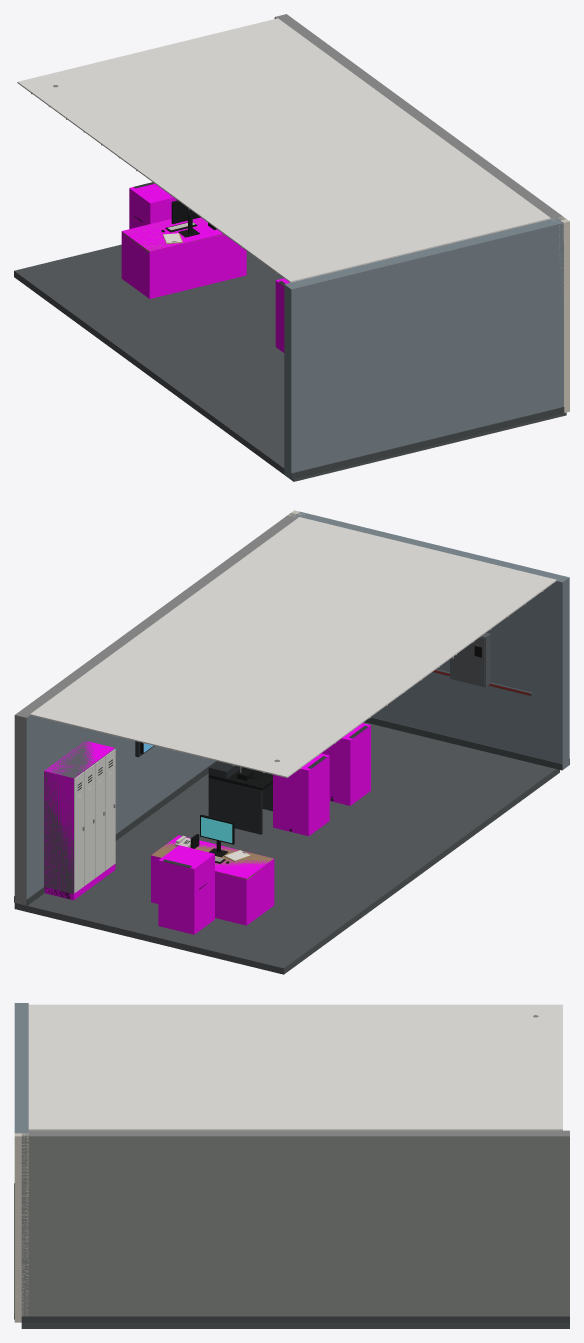
Rendered from ENV_SecurityControl.glb.
The picture shows the model from 3 angles, top to bottom: view 1: azimuth 30°, elevation 25°; view 2: azimuth 150°, elevation 25°; view 3: azimuth 270°, elevation 25°; orthographic projection. The views are drawn at different scales.
Parts seen in each view (by area): view 1: ENV_SecurityControl_Architecture, ENV_SecurityControl_Ceiling, PROP_Desk_Clinical_COL-colonly.003, PROP_Chair_Office_COL-colonly.012, ENV_SecurityControl_Posts, PROP_Terminal_EHR_Mesh.004, PROP_Chair_Office_COL-colonly.011; view 2: ENV_SecurityControl_Architecture, ENV_SecurityControl_Ceiling, PROP_Lockers_Staff_4_Mesh.001, PROP_Chair_Office_COL-colonly.012, PROP_Lockers_Staff_4_COL-colonly.001, PROP_Desk_Clinical_COL-colonly.003, PROP_Console_SecurityDesk_Mesh, PROP_Chair_Office_COL-colonly.011, PROP_Chair_Office_COL-colonly.010, PROP_Cabinet_Keys_Wall_Mesh, PROP_Desk_Clinical_Mesh.003, PROP_Terminal_EHR_Screen.004 (+1 smaller); view 3: ENV_SecurityControl_Architecture, ENV_SecurityControl_Ceiling, ENV_SecurityControl_Posts.
Boxes of the visible parts, x1,y1,x2,y2 form: ENV_SecurityControl_Architecture: (14, 14, 566, 481); ENV_SecurityControl_Ceiling: (17, 18, 550, 282); PROP_Desk_Clinical_COL-colonly.003: (121, 217, 246, 298); PROP_Chair_Office_COL-colonly.012: (129, 184, 177, 228); ENV_SecurityControl_Posts: (551, 216, 569, 412); PROP_Terminal_EHR_Mesh.004: (161, 200, 216, 237); PROP_Chair_Office_COL-colonly.011: (275, 278, 289, 352); ENV_SecurityControl_Architecture: (14, 511, 569, 974); ENV_SecurityControl_Ceiling: (30, 517, 556, 777); PROP_Lockers_Staff_4_Mesh.001: (44, 741, 115, 899); PROP_Chair_Office_COL-colonly.012: (158, 845, 214, 934); PROP_Lockers_Staff_4_COL-colonly.001: (44, 741, 115, 900); PROP_Desk_Clinical_COL-colonly.003: (151, 835, 274, 925); PROP_Console_SecurityDesk_Mesh: (208, 761, 272, 834); PROP_Chair_Office_COL-colonly.011: (273, 753, 329, 836); PROP_Chair_Office_COL-colonly.010: (321, 723, 370, 805); PROP_Cabinet_Keys_Wall_Mesh: (450, 633, 490, 687); PROP_Desk_Clinical_Mesh.003: (151, 842, 273, 879); PROP_Terminal_EHR_Screen.004: (201, 817, 232, 843); ENV_SecurityControl_Architecture: (14, 1003, 569, 1328); ENV_SecurityControl_Ceiling: (28, 1004, 562, 1130); ENV_SecurityControl_Posts: (14, 1133, 28, 1322).
Size of what is drawn, in the model's own units: 4.61 by 3.13 by 8.11.
